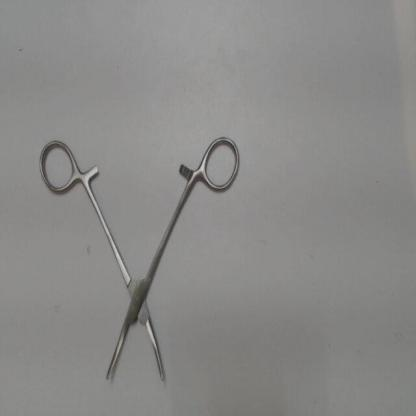Crile Artery Forceps: (32, 127, 248, 388)
